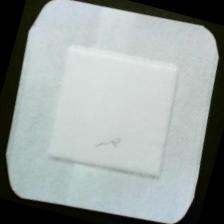Dressing: (1, 1, 224, 224)
F_Body: (86, 123, 136, 168)
